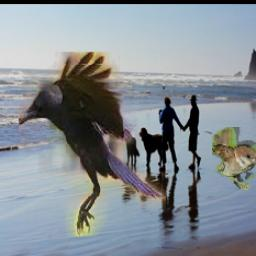Crow: (19, 52, 166, 237)
Sparrow: (212, 127, 256, 190)
